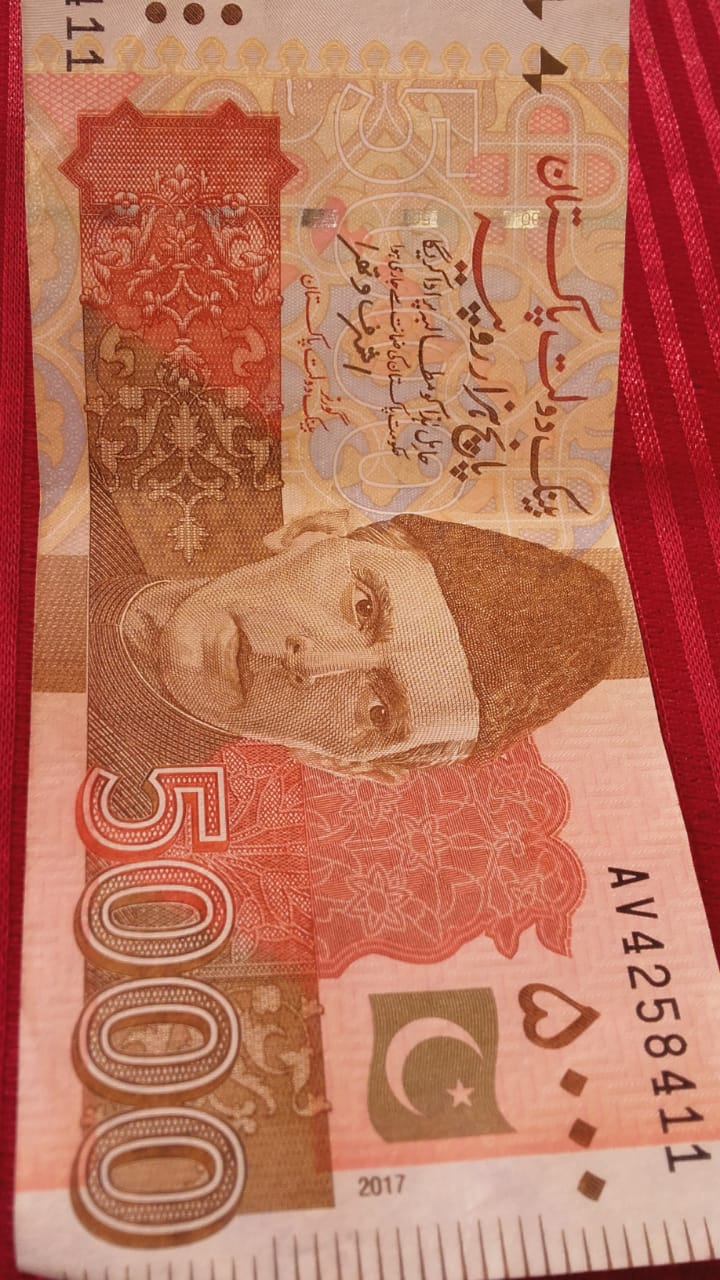5000 rupee: (6, 16, 720, 1280)
